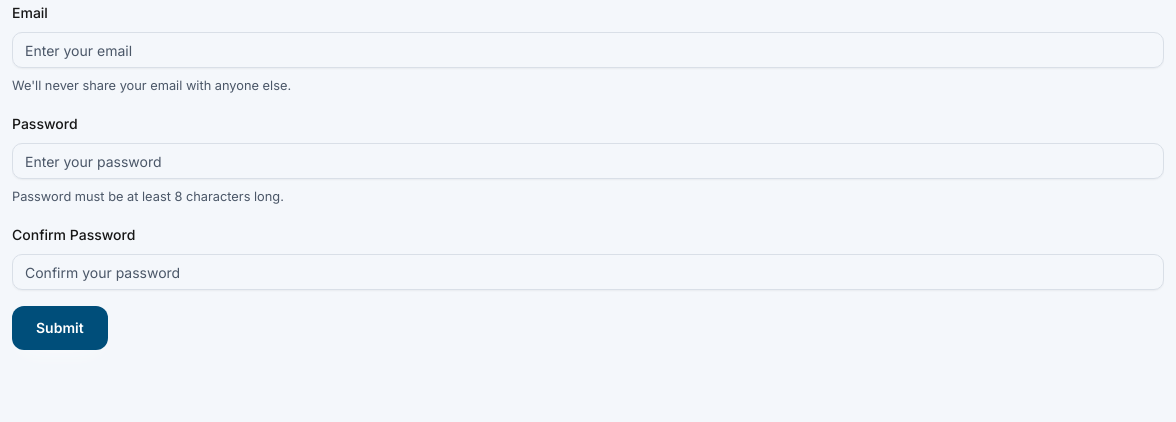
Form Components › Form Validation › clears validation errors when user corrects input
# Trigger validation error
Type "invalid-email" into the field labelled "Email" at point(588, 50), box [12,32,1164,68]
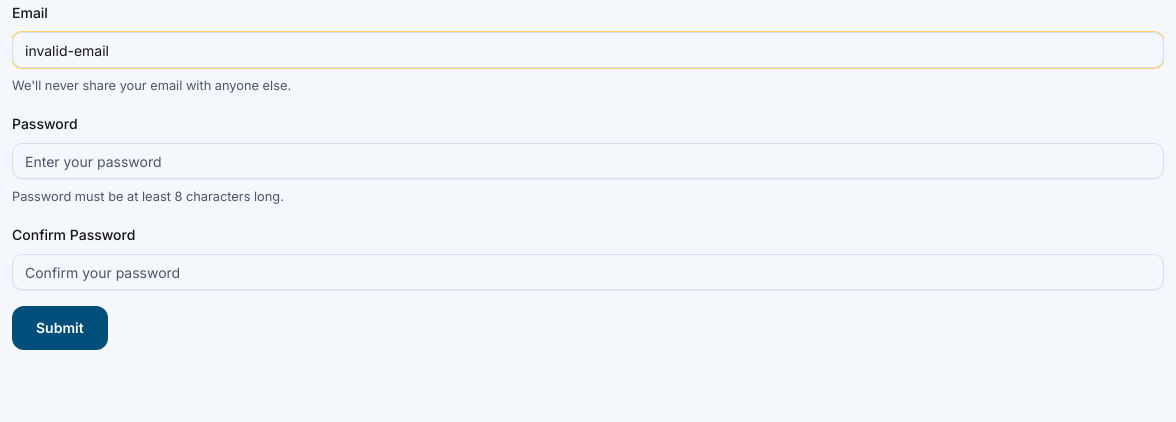
Click the button "Submit" at point(60, 328), box [12,306,108,350]
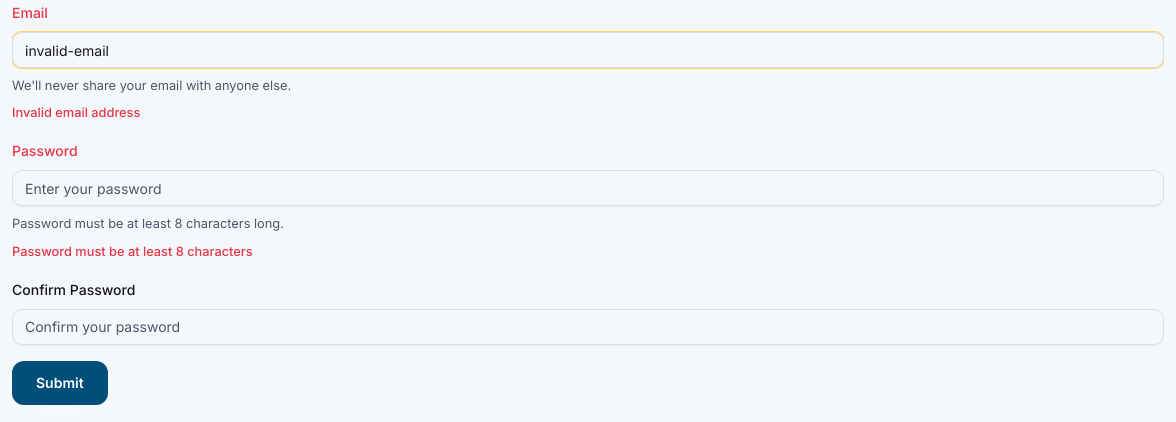
Expected: the text "Invalid email address" is shown, [12,105,140,120]
# Fix the error
Replace the text in the field labelled "Email" with "test@example.com" at point(588, 50), box [12,32,1164,68]
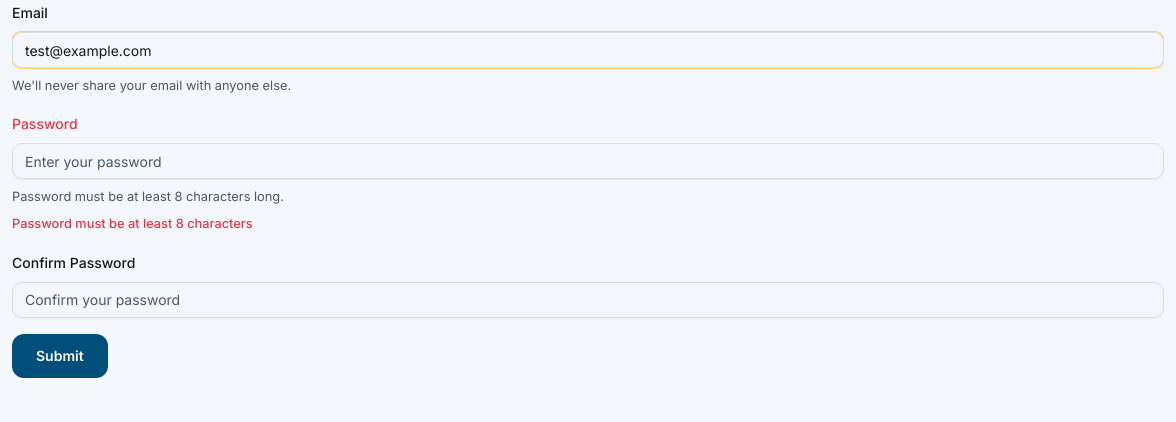
Expected: the text "Invalid email address" is gone
